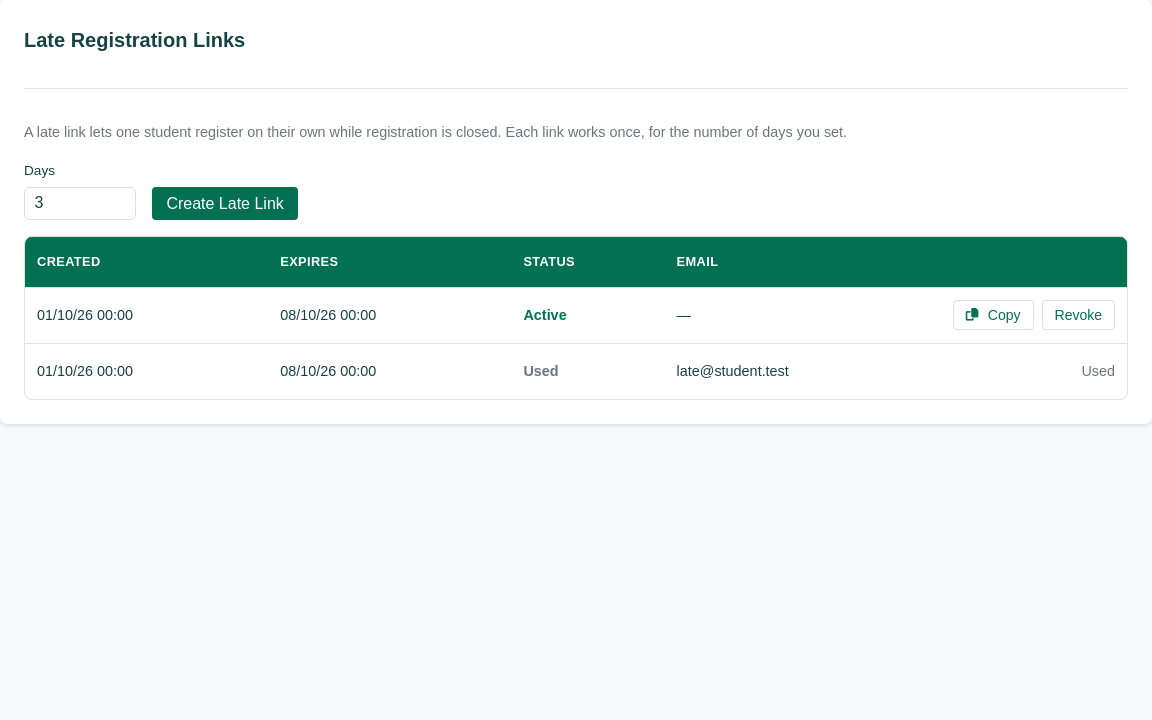
Scenario: Late Links › creates a link to copy, lists them newest first, and revokes an active one
Submit the form, box [24,163,298,220]
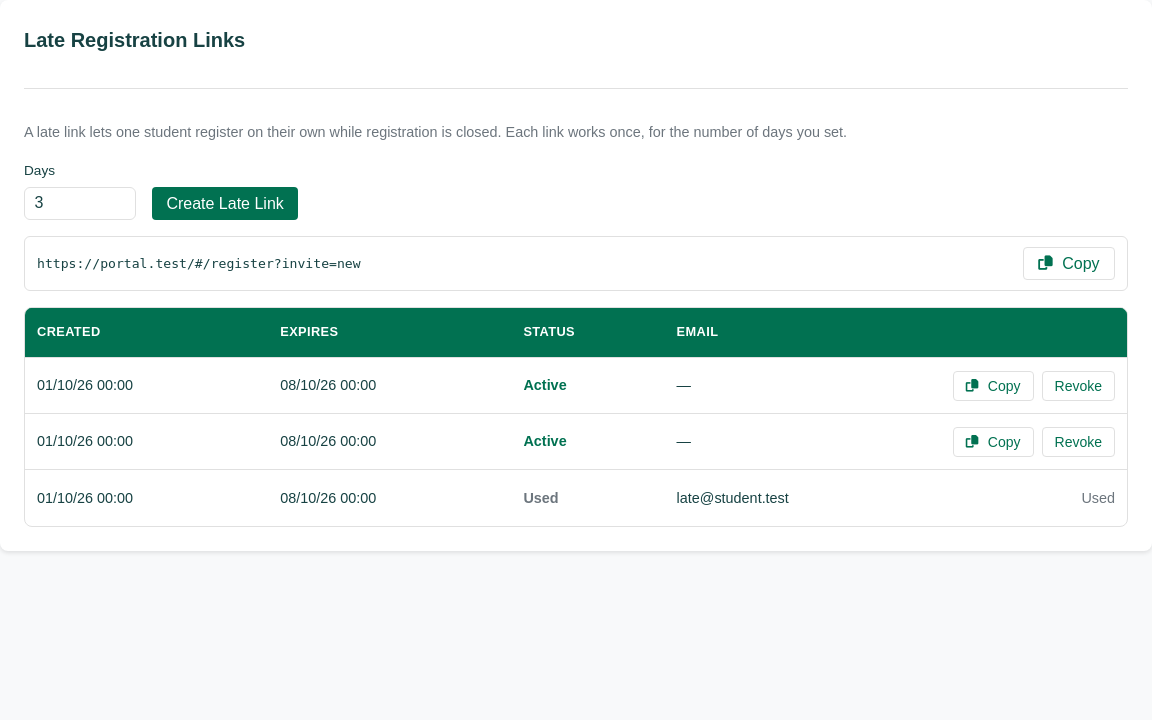
Expected: the element with test id "late-link-created" shows "invite=new", [37,256,361,271]
Click the 2nd button "Revoke".
click(1078, 442)  # box [1042,427,1115,457]
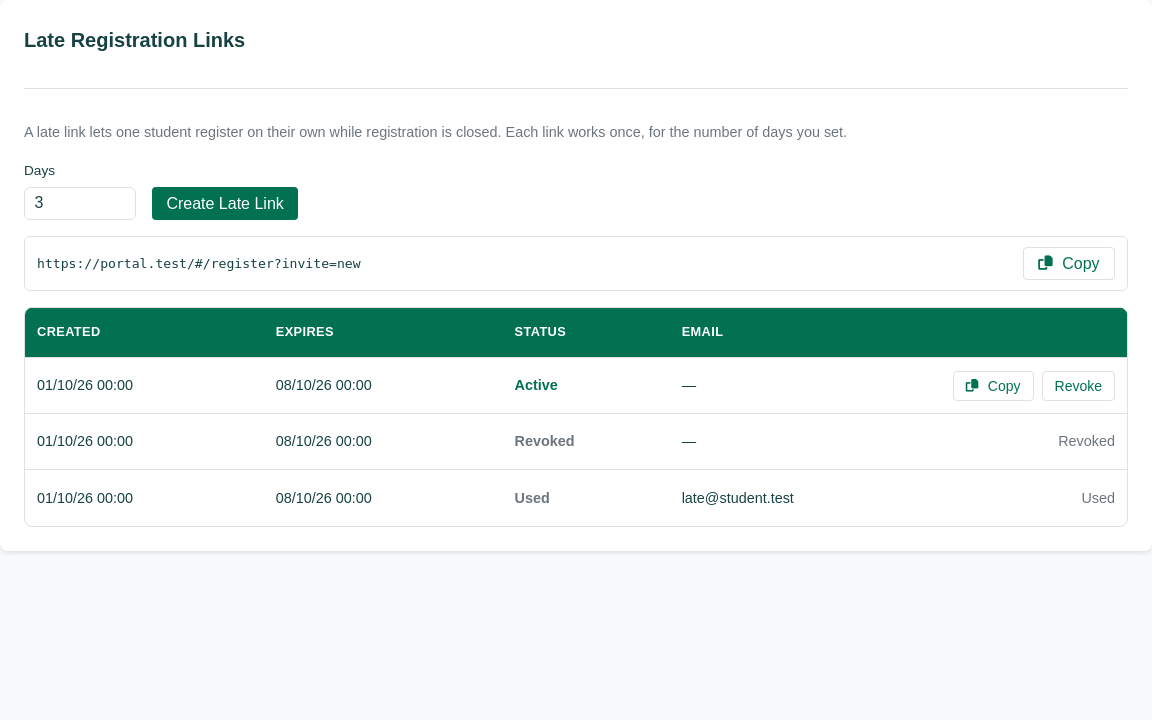
Expected: the text "Revoked" is shown, [515,433,575,449]
